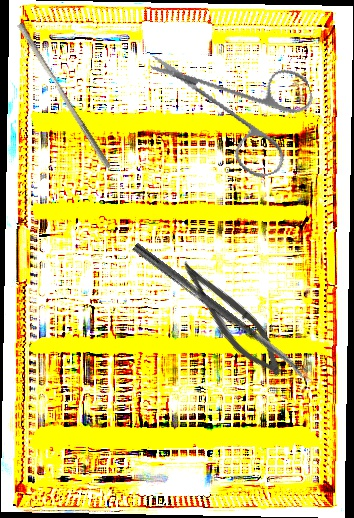Iris Scissors: (147, 13, 332, 200)
Micro Scissor: (167, 253, 295, 385)
Pusher: (11, 21, 118, 170)
Surgical Spoon: (131, 242, 309, 380)
